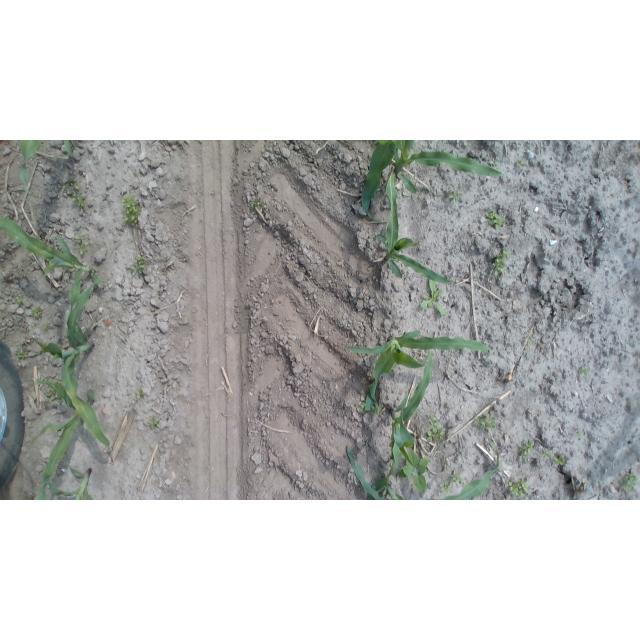Maize: (12, 274, 115, 452), (342, 330, 499, 416), (0, 212, 104, 335), (359, 140, 505, 224), (374, 170, 454, 289), (343, 445, 516, 500), (32, 378, 101, 500), (380, 351, 436, 491), (17, 140, 81, 197), (42, 464, 99, 500)
Weeds: (400, 449, 433, 494), (422, 275, 449, 320), (487, 244, 515, 278), (425, 413, 452, 445), (62, 179, 87, 213), (122, 194, 147, 226), (618, 470, 639, 497), (507, 477, 532, 499), (440, 474, 467, 494), (476, 414, 501, 434), (358, 400, 383, 418), (129, 255, 148, 277), (487, 209, 506, 231), (517, 438, 535, 459), (74, 235, 90, 257), (246, 196, 264, 214), (17, 343, 33, 362), (44, 391, 64, 406), (521, 335, 539, 348), (30, 306, 46, 320), (554, 454, 569, 468), (575, 427, 588, 441), (447, 191, 461, 203), (147, 419, 162, 430), (515, 158, 528, 170), (578, 365, 592, 376), (541, 449, 552, 463), (134, 387, 146, 399), (15, 295, 25, 309), (489, 159, 503, 169)
